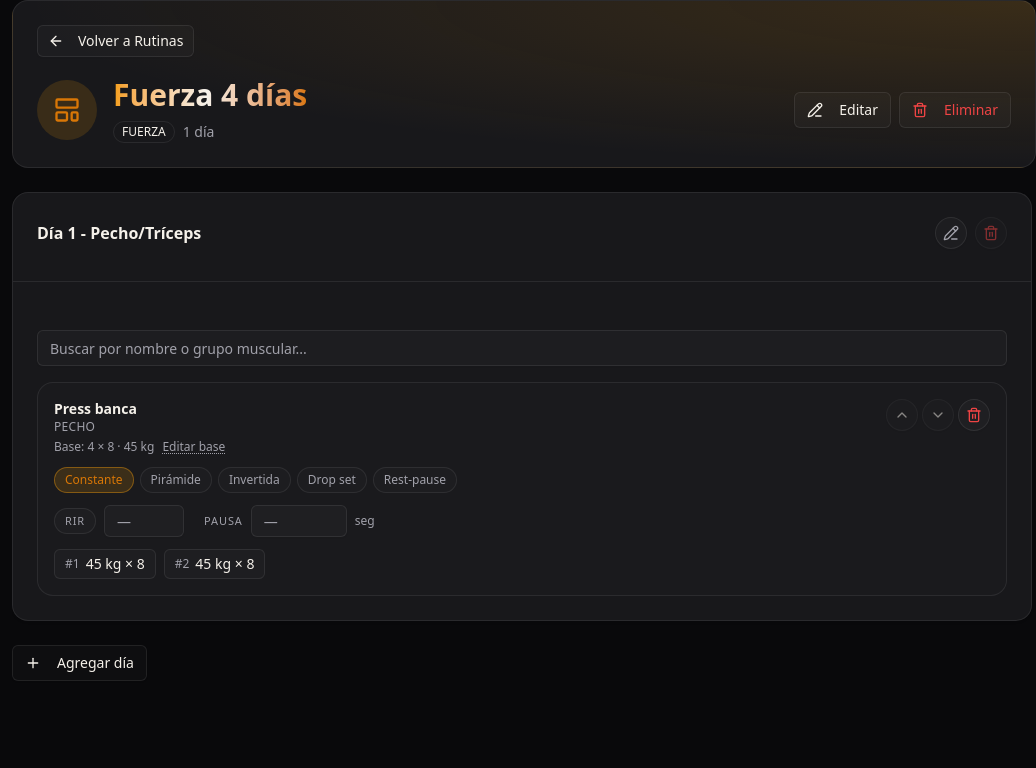
Test: detalle de plantilla de rutina — borrador y guardado › el buscador avisa cuando no hay resultados
expect the text "Día 1 - Pecho/Tríceps" is shown: met, box left=37, top=225, right=201, bottom=241
Type "inexistente" into the field named "Buscar ejercicio para el Día 1" at (522, 348), box left=37, top=330, right=1007, bottom=366
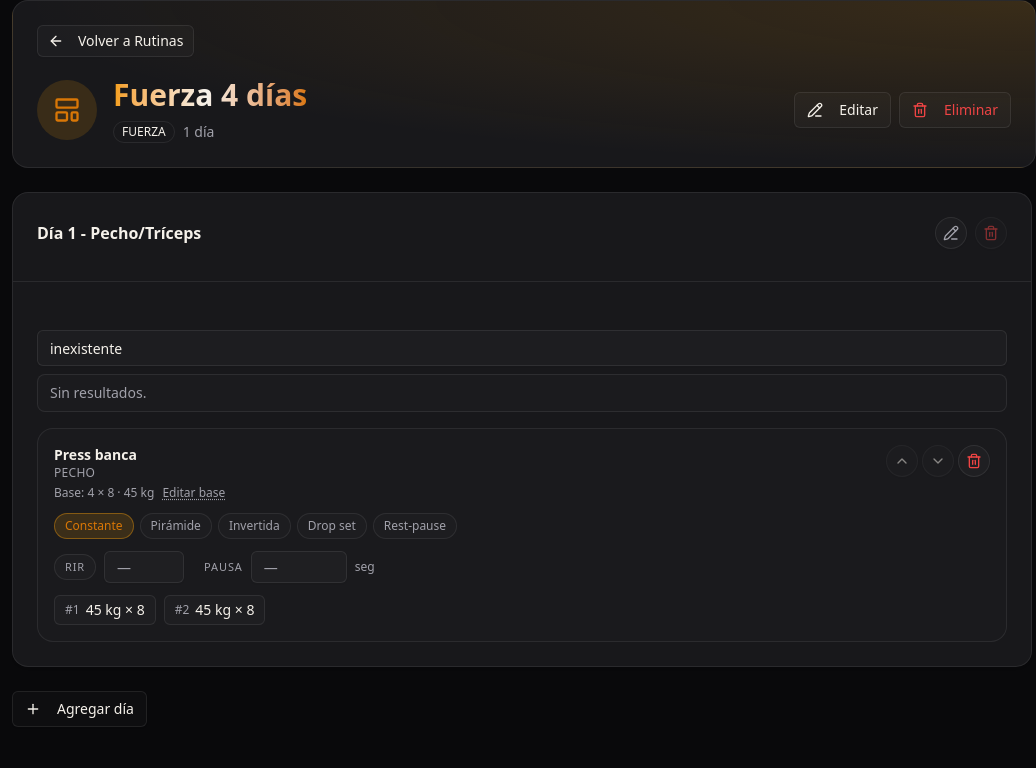
expect the text "Sin resultados." is shown: met, box left=50, top=383, right=146, bottom=402
